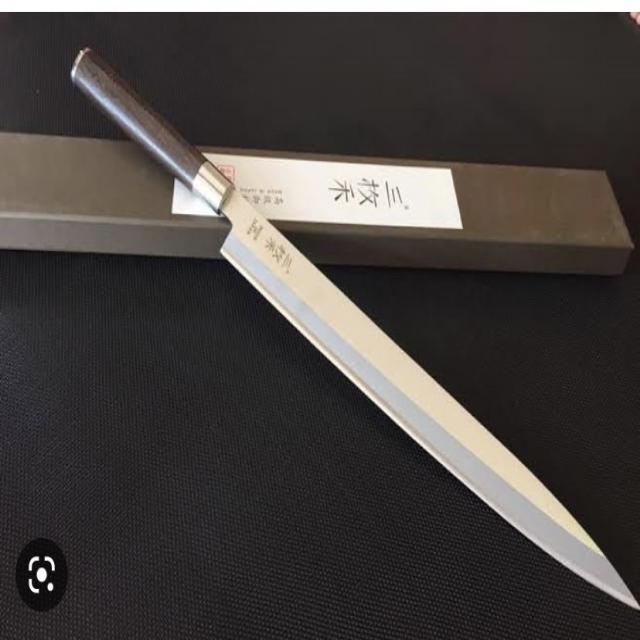Knife: (69, 35, 640, 613)
